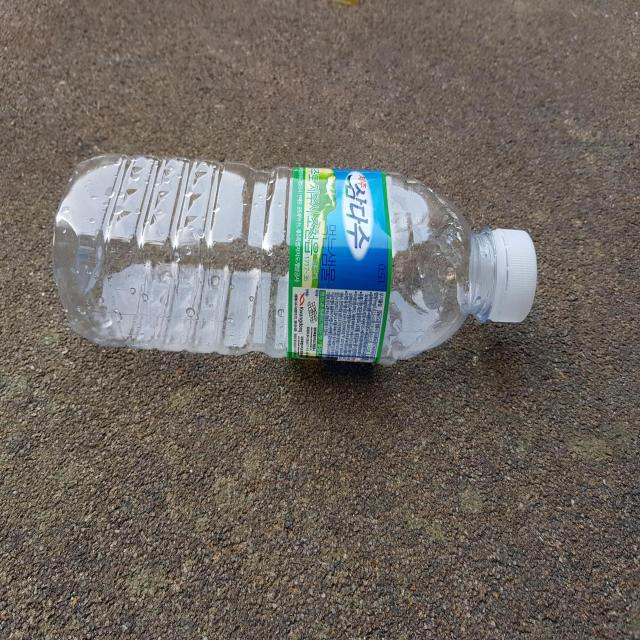plastic: (52, 153, 538, 364)
